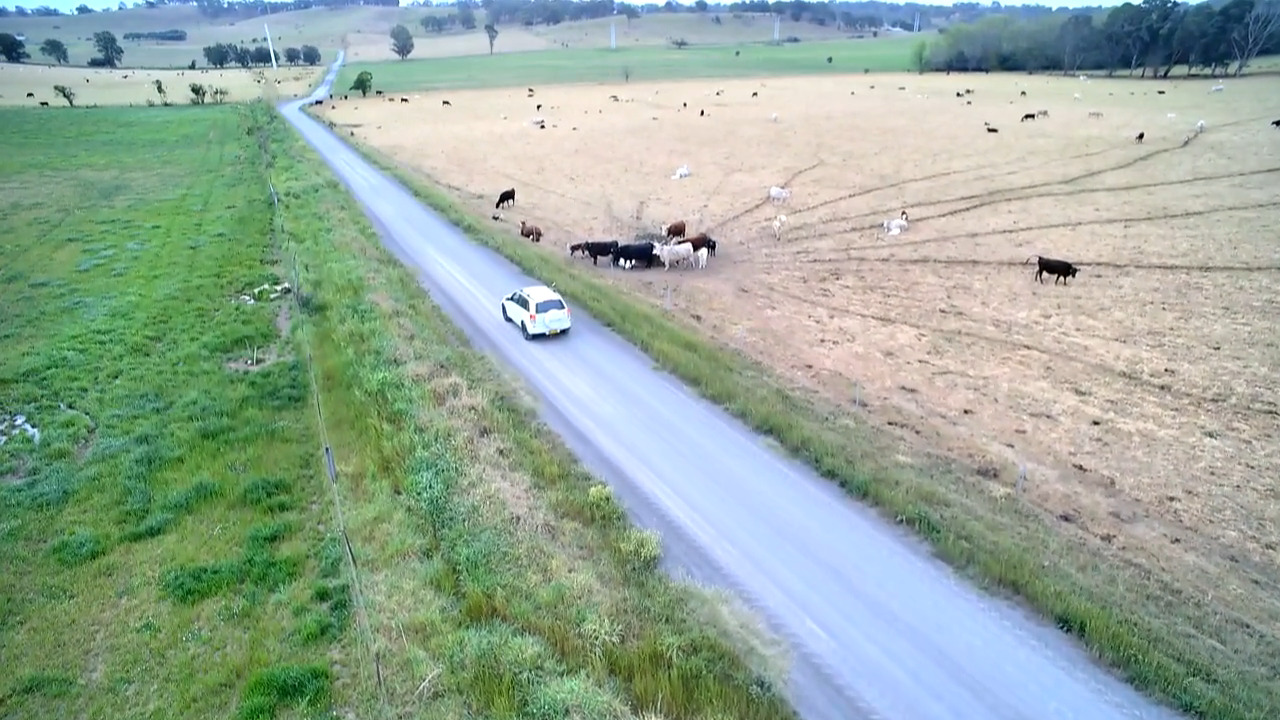Car: (500, 285, 571, 339)
